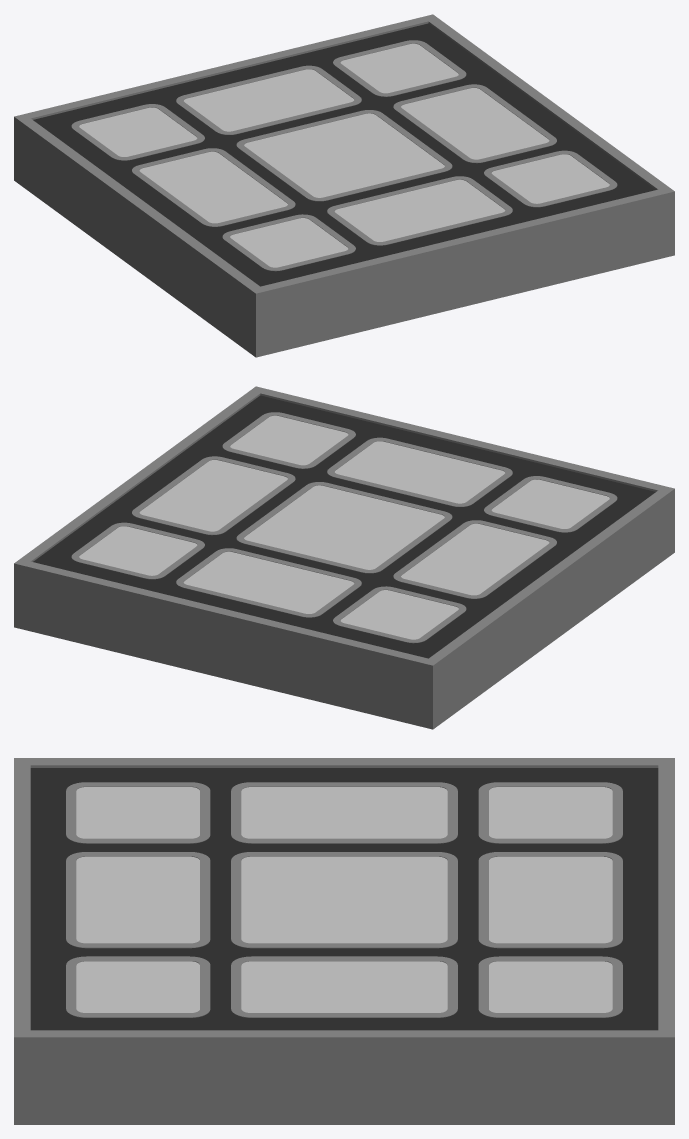
File: roads.fbx
The picture shows the model from 3 angles, top to bottom: view 1: azimuth 30°, elevation 25°; view 2: azimuth 150°, elevation 25°; view 3: azimuth 270°, elevation 25°; orthographic projection. The views are drawn at different scales.
Visible parts, largest first — view 1: Plane, Plane.003; view 2: Plane, Plane.003; view 3: Plane, Plane.003.
Boxes of the visible parts, x1,y1,x2,y2 form: Plane: (14, 14, 674, 357); Plane.003: (71, 40, 617, 271); Plane: (14, 386, 674, 729); Plane.003: (71, 412, 617, 643); Plane: (14, 758, 674, 1124); Plane.003: (66, 782, 622, 1017).
Bounding box in the file's own units: 2134 × 311 × 2134.
